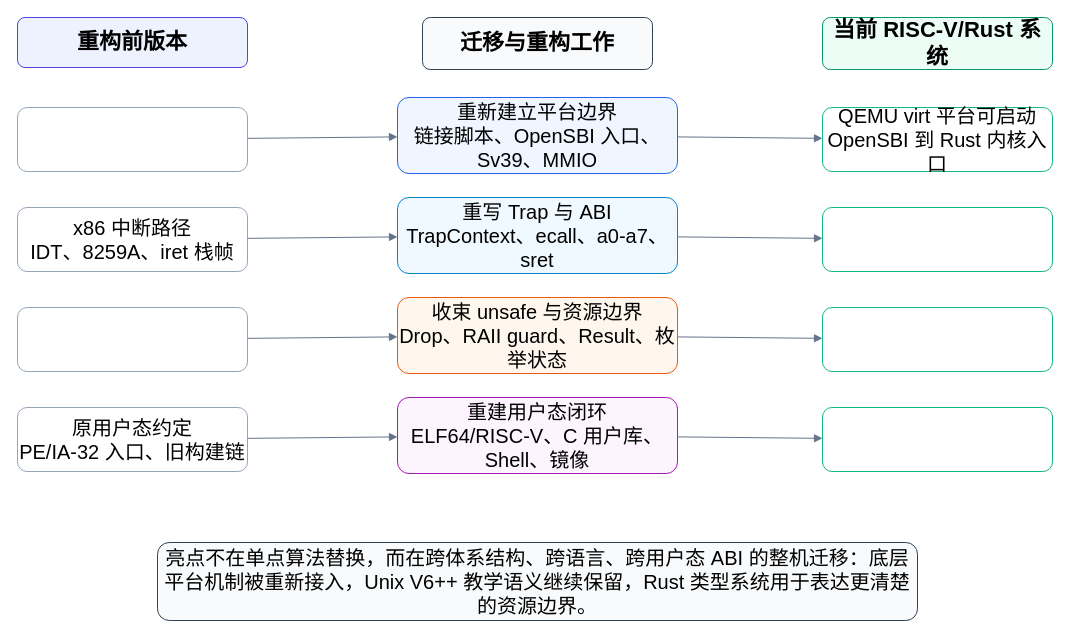
Image size: 1070x638. Some labels were removed from this diagram. The shapes that lost their labels are listed below. From the top down, each one's centre as x and y in pixels, then its label:
At [132,139]: "IA-32 启动 引导扇区、保护模式、GDT".
At [937,239]: "统一 Trap/系统调用框架 中断、异常、系统调用同源分发".
At [132,339]: "显式资源管理 调用点配对释放、表项状态".
At [937,339]: "类型化资源生命周期 页、栈、文件、inode、中断保护".
At [937,439]: "可交互教学闭环 ELF 用户程序、TTY/Shell、QEMU 测试".
